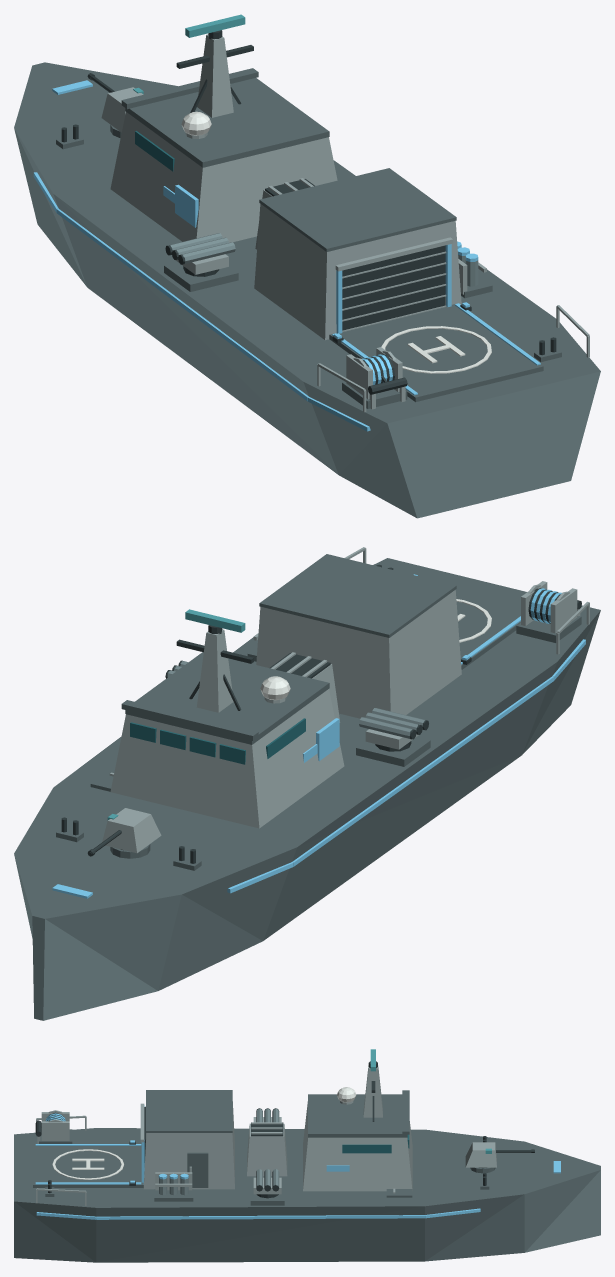
The model's file is ESC_ASW_T2.fbx.
The picture shows the model from 3 angles, top to bottom: view 1: azimuth 30°, elevation 25°; view 2: azimuth 150°, elevation 25°; view 3: azimuth 270°, elevation 25°; orthographic projection. The views are drawn at different scales.
Visible parts, largest first — view 1: ContinuousHull.006, Deckhouse.006, HelicopterHangar, HelicopterDeck, HangarRoof, Roof.006, AftFacingHangarDoor, NavMast.002, RoleHullStripe-1_1, BridgeBrow, TorpedoFoot_P, HangarDoorHeader (+5 smaller); view 2: ContinuousHull.006, Deckhouse.006, HelicopterHangar, HangarRoof, Roof.006, HelicopterDeck, NavMast.002, PrimaryGunCupola.006, RoleHullStripe-1_1, BridgeBrow, TorpedoFoot_P, TowSonarWinchFoot (+4 smaller); view 3: ContinuousHull.006, Deckhouse.006, HelicopterDeck, HelicopterHangar, HangarRoof, Roof.006, FunnelEnclosure.006, RoleHullStripe1_1, NavMast.002, PrimaryGunCupola.006, HangarPersonnelHatch, TowSonarWinchCheek (+6 smaller).
Boxes of the visible parts, left/top/right/bottom form: ContinuousHull.006: left=14, top=62, right=600, bottom=518; Deckhouse.006: left=110, top=112, right=337, bottom=242; HelicopterHangar: left=254, top=204, right=461, bottom=340; HelicopterDeck: left=329, top=304, right=543, bottom=402; HangarRoof: left=259, top=168, right=456, bottom=251; Roof.006: left=125, top=78, right=329, bottom=167; AftFacingHangarDoor: left=342, top=245, right=445, bottom=330; NavMast.002: left=197, top=34, right=233, bottom=117; RoleHullStripe-1_1: left=56, top=208, right=308, bottom=400; BridgeBrow: left=121, top=68, right=258, bottom=109; TorpedoFoot_P: left=164, top=262, right=238, bottom=291; HangarDoorHeader: left=335, top=237, right=453, bottom=271; ContinuousHull.006: left=14, top=558, right=600, bottom=1020; Deckhouse.006: left=110, top=689, right=344, bottom=828; HelicopterHangar: left=256, top=590, right=461, bottom=718; HangarRoof: left=259, top=554, right=456, bottom=637; Roof.006: left=125, top=652, right=329, bottom=744; HelicopterDeck: left=416, top=574, right=520, bottom=669; NavMast.002: left=196, top=629, right=233, bottom=712; PrimaryGunCupola.006: left=102, top=808, right=161, bottom=853; RoleHullStripe-1_1: left=292, top=676, right=553, bottom=866; BridgeBrow: left=121, top=700, right=258, bottom=740; TorpedoFoot_P: left=356, top=737, right=430, bottom=766; TowSonarWinchFoot: left=516, top=616, right=581, bottom=642; ContinuousHull.006: left=14, top=1128, right=600, bottom=1262; Deckhouse.006: left=303, top=1101, right=412, bottom=1191; HelicopterDeck: left=33, top=1145, right=143, bottom=1187; HelicopterHangar: left=143, top=1101, right=234, bottom=1189; HangarRoof: left=146, top=1090, right=232, bottom=1132; Roof.006: left=308, top=1094, right=407, bottom=1137; FunnelEnclosure.006: left=247, top=1123, right=287, bottom=1176; RoleHullStripe1_1: left=96, top=1215, right=424, bottom=1219; NavMast.002: left=363, top=1065, right=382, bottom=1117; PrimaryGunCupola.006: left=465, top=1142, right=496, bottom=1167; HangarPersonnelHatch: left=187, top=1152, right=208, bottom=1187; TowSonarWinchCheek: left=41, top=1121, right=69, bottom=1140.
Size of the model in its own units: 290 by 310 by 900.
